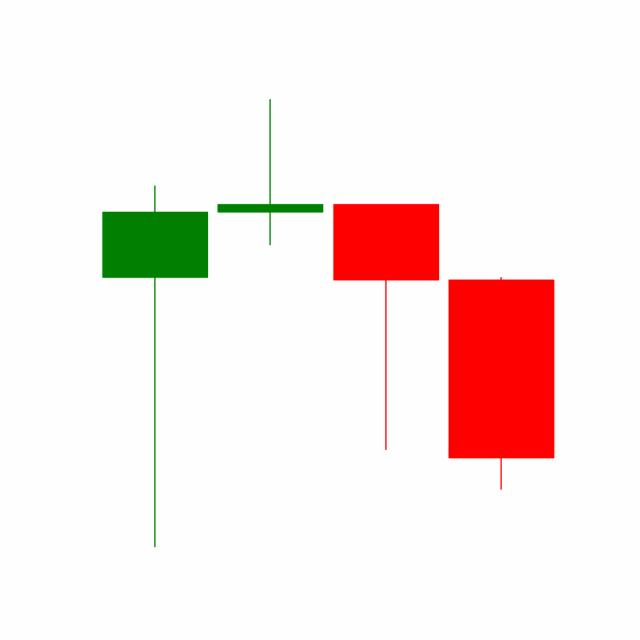Hammer: (328, 201, 444, 452)
